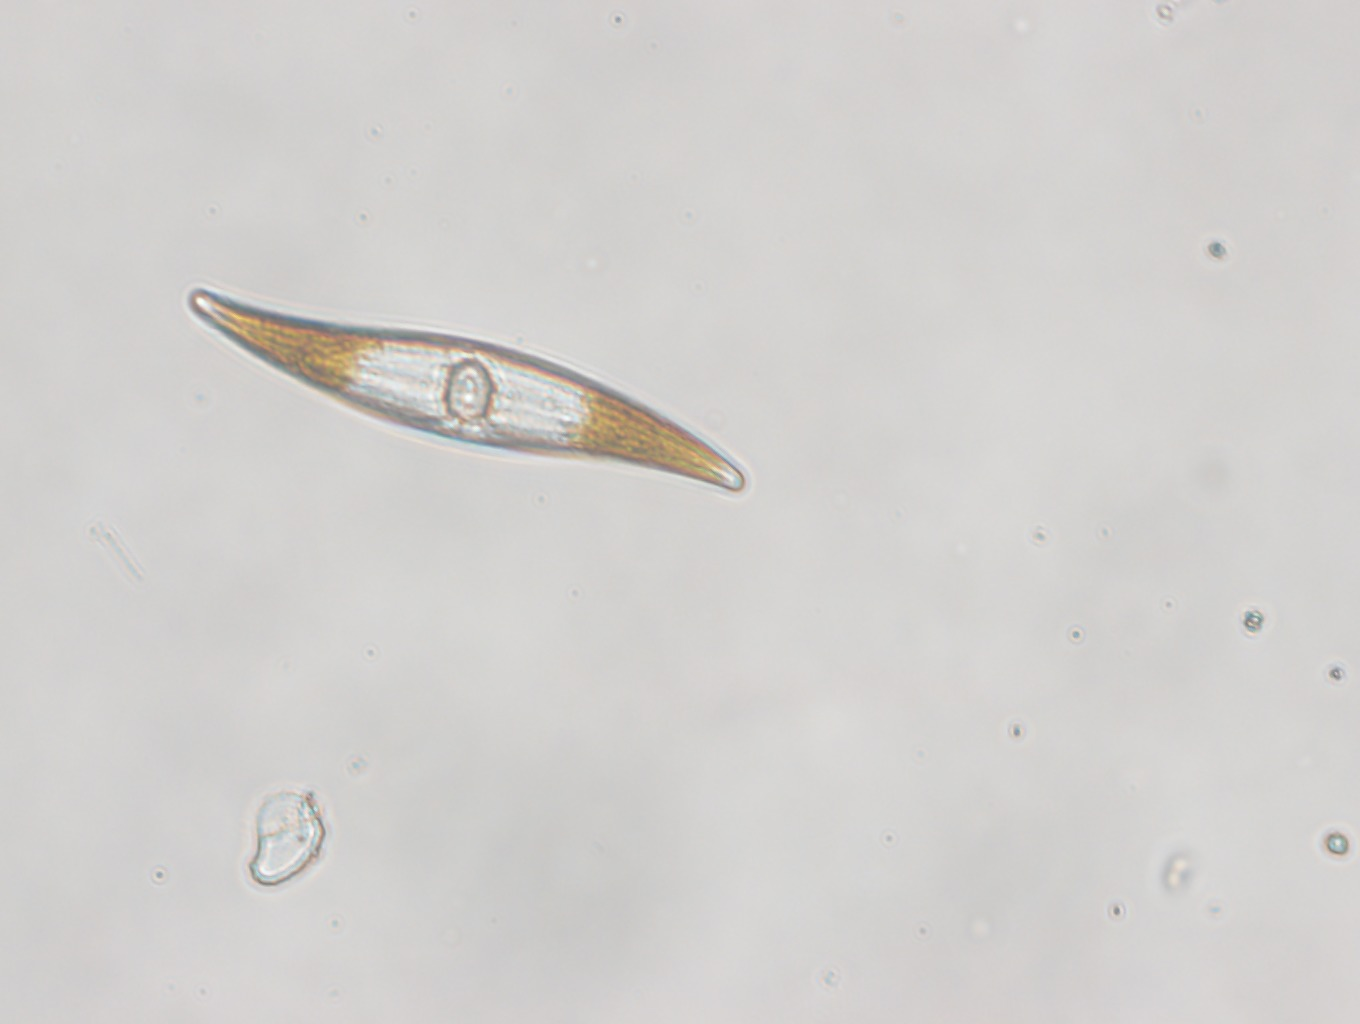pleurosigma pelagicum: (181, 279, 748, 496)
